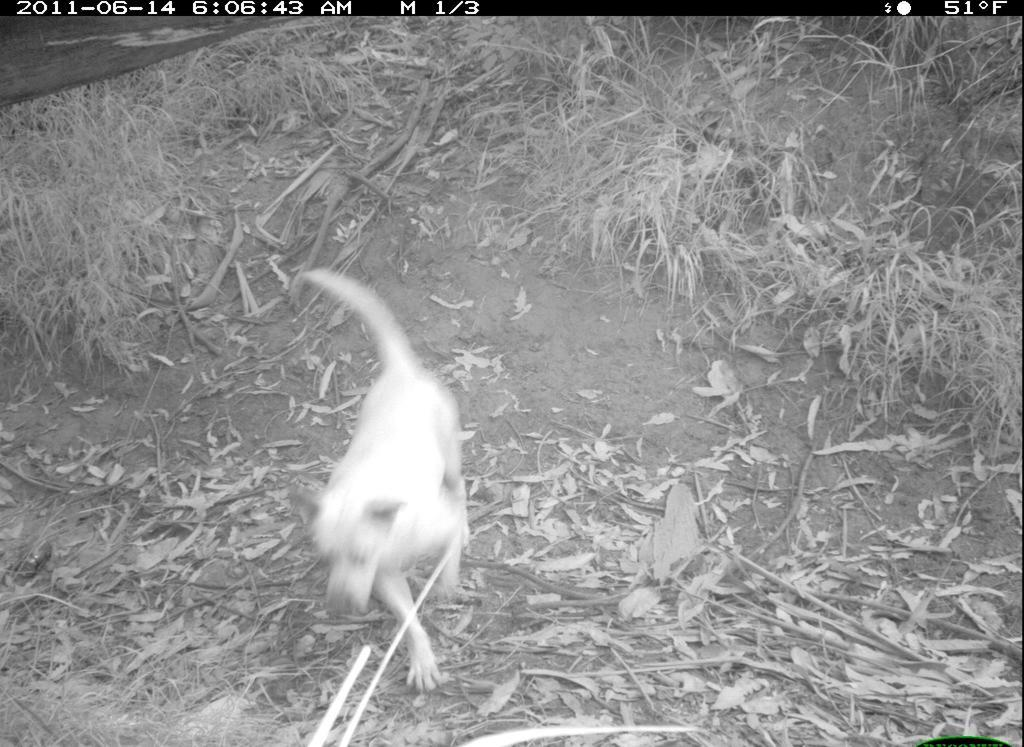dog: (285, 254, 488, 716)
